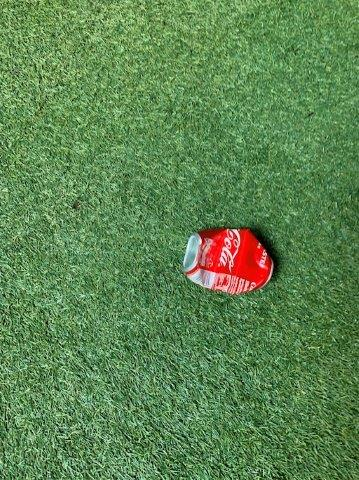kaleng: (185, 229, 273, 293)
